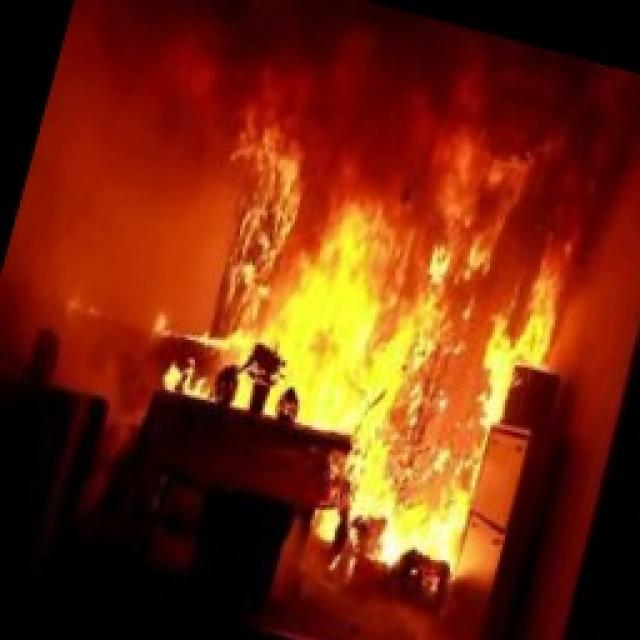fire: (103, 35, 625, 617)
